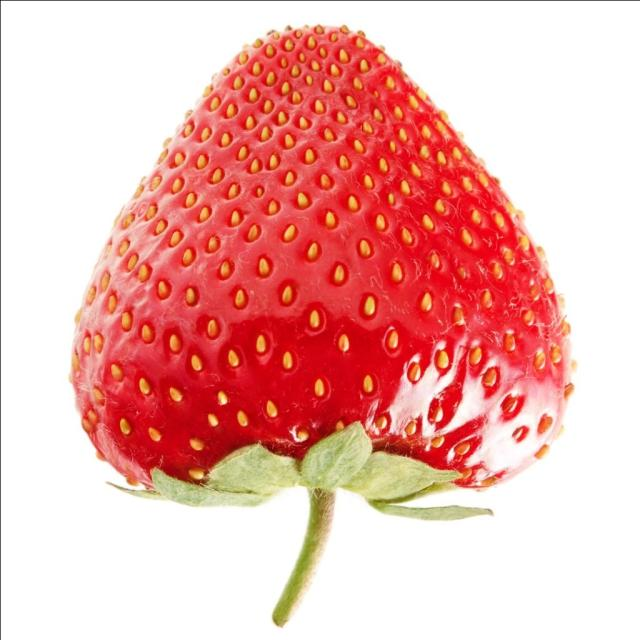strawberry: (53, 0, 584, 619)
